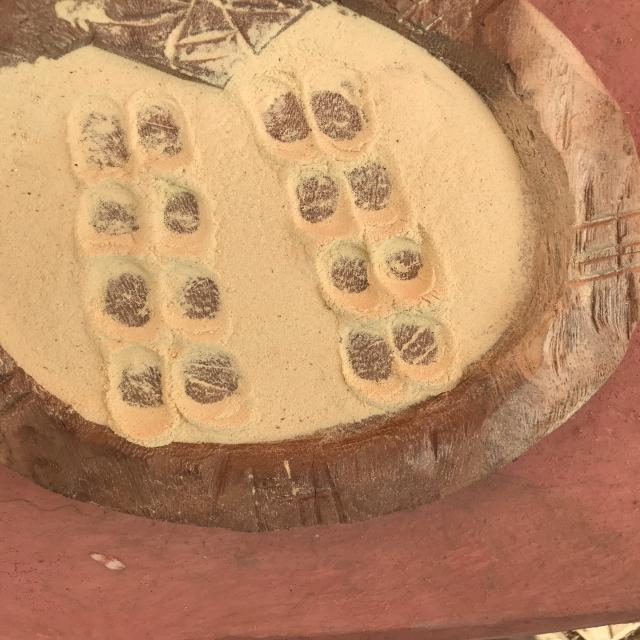double: (97, 346, 251, 442), (80, 260, 232, 350), (76, 182, 220, 266), (62, 94, 202, 180), (245, 74, 381, 160), (317, 233, 453, 316), (338, 316, 458, 398), (287, 160, 415, 234)
